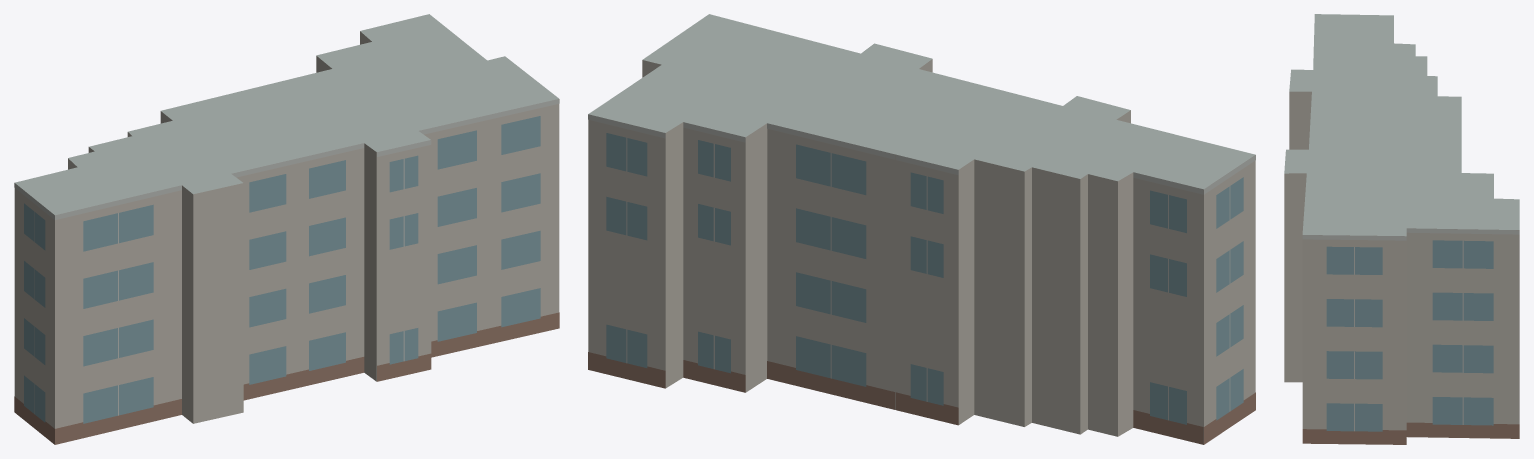
The model's file is survey-upis-32475447.glb.
The picture shows the model from 3 angles, left to right: view 1: azimuth 30°, elevation 25°; view 2: azimuth 150°, elevation 25°; view 3: azimuth 270°, elevation 25°; orthographic projection. The views are drawn at different scales.
Parts seen in each view (by area): view 1: survey-upis-32475447.tmp; view 2: survey-upis-32475447.tmp; view 3: survey-upis-32475447.tmp.
Boxes of the visible parts, x1,y1,x2,y2 form: survey-upis-32475447.tmp: (14,14,559,444); survey-upis-32475447.tmp: (588,14,1255,444); survey-upis-32475447.tmp: (1284,14,1519,444).
Size of the model in its own units: 26.03 by 11.4 by 11.66.
